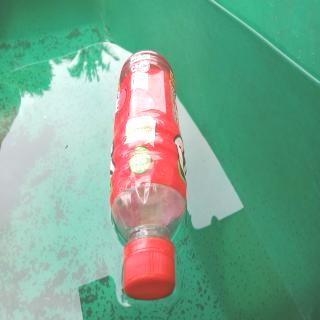bottle: (109, 48, 189, 302)
